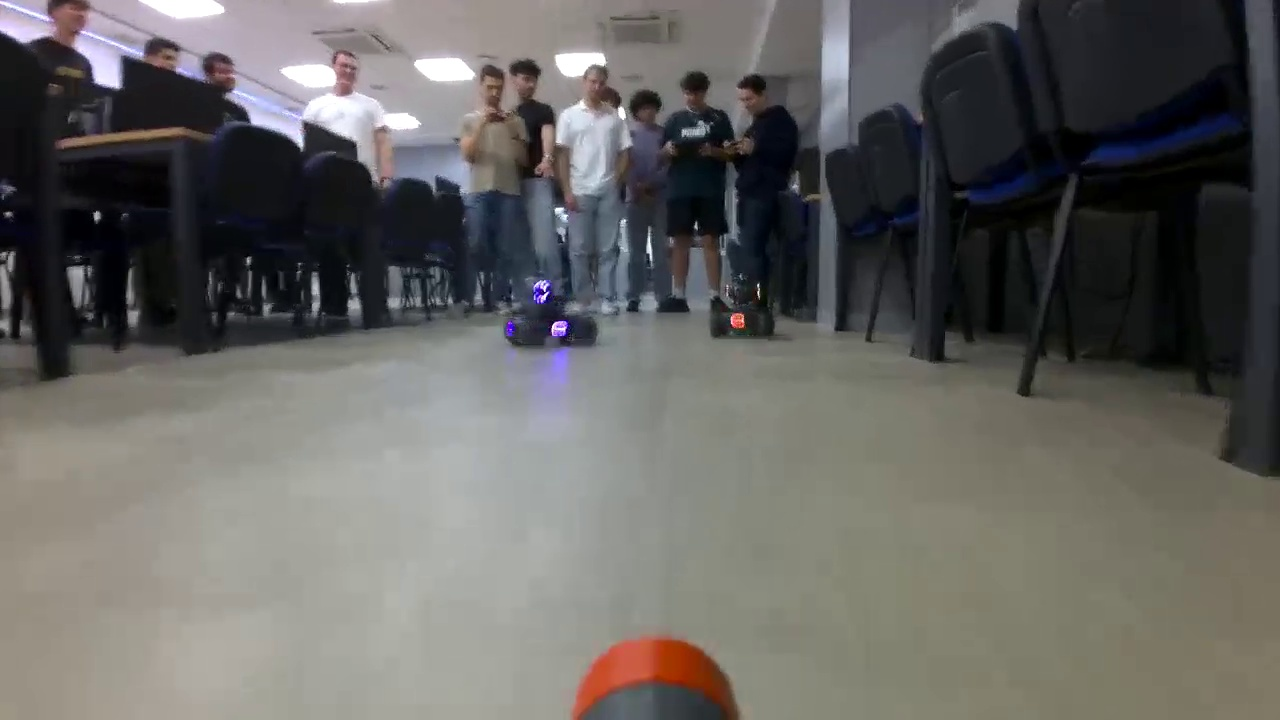robot: (504, 278, 599, 350), (708, 278, 775, 341)
